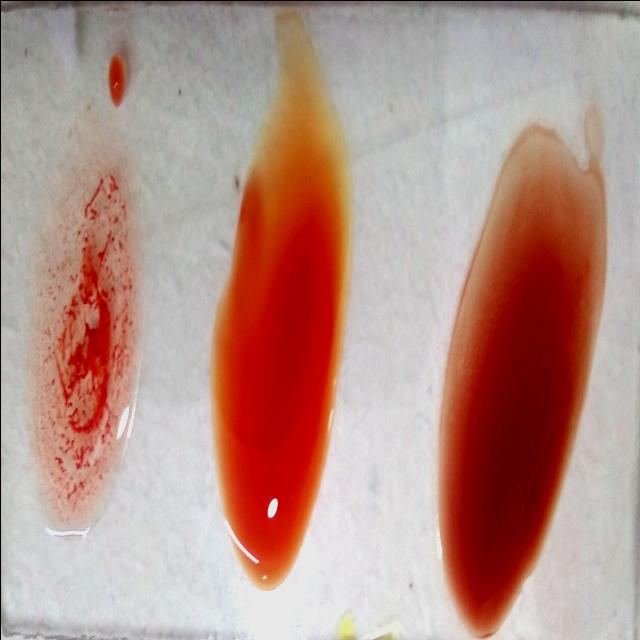D: (46, 176, 136, 534)
